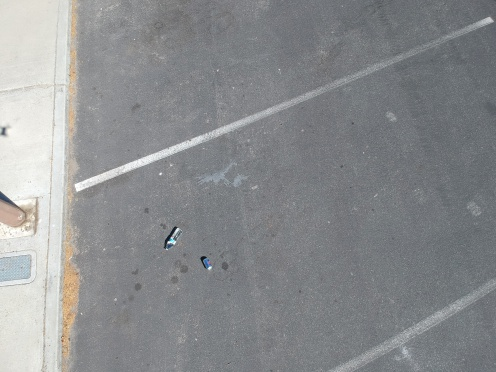bottle: (160, 225, 186, 251)
can: (198, 256, 216, 272)
